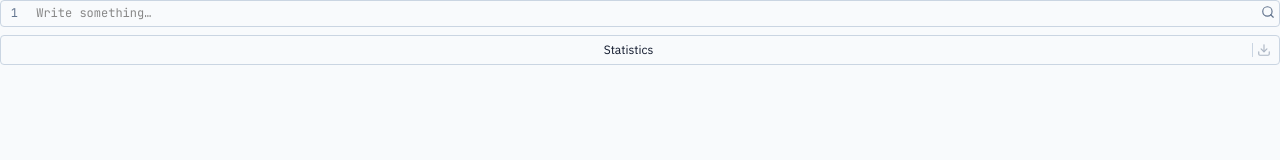
Scenario: NotesWidget › toggles the statistics rows open and closed
Check: the text "Characters" is not shown
Click the button "Statistics": [628, 50] box x1=9 y1=42 x2=1248 y2=58
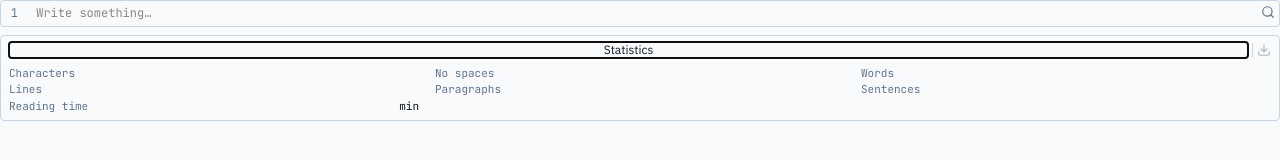
Check: the text "Characters" is shown, box x1=9 y1=66 x2=75 y2=80
Click the button "Statistics": [628, 50] box x1=9 y1=42 x2=1248 y2=58
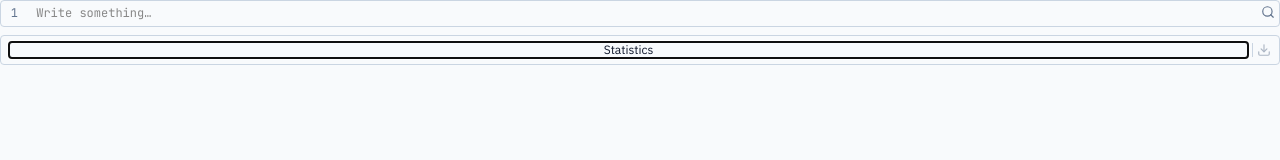
Check: the text "Characters" is gone
